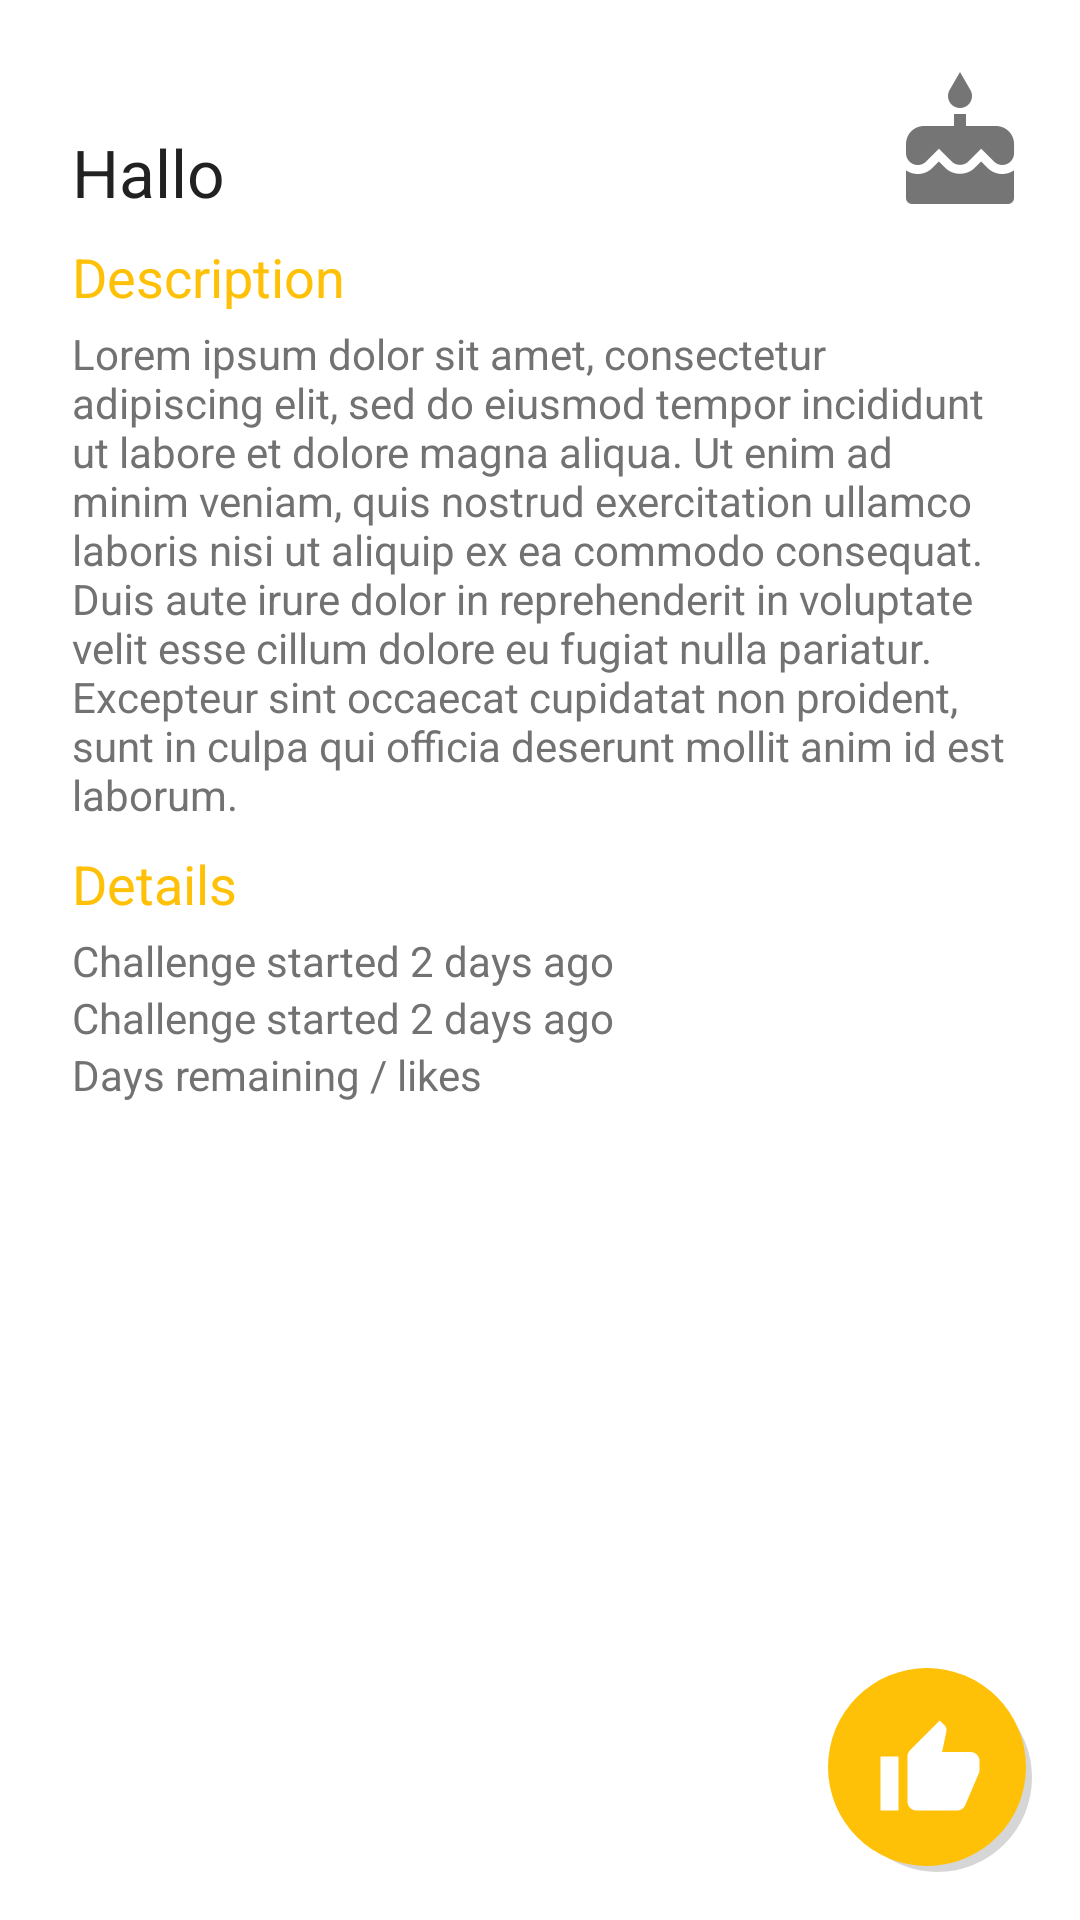

Icons on this 1080 x 1920 Android screen, each with the point to tap as (x=x, y=y):
thumb up fab: (x=930, y=1770)
